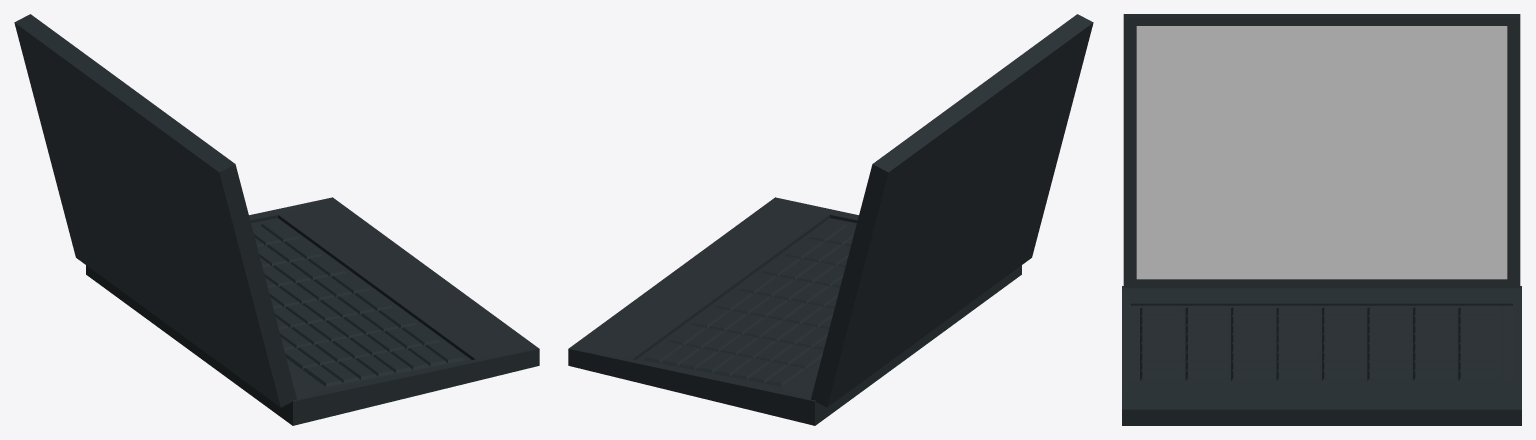
The model's file is noutbook.fbx.
3 renders of one model, left to right at view 1: azimuth 30°, elevation 25°; view 2: azimuth 150°, elevation 25°; view 3: azimuth 270°, elevation 25°, orthographic. The views are drawn at different scales.
Parts seen in each view (by area): view 1: Cube.001, Cube; view 2: Cube.001, Cube; view 3: Cube.001, Cube.
Boxes of the visible parts, box(x1,y1,x2,y2) form: Cube.001: box(14, 14, 296, 407); Cube: box(86, 197, 539, 425); Cube.001: box(811, 14, 1093, 407); Cube: box(568, 197, 1021, 425); Cube.001: box(1123, 14, 1520, 288); Cube: box(1122, 286, 1521, 425).
Size of the model in its own units: 178 by 147 by 200.
